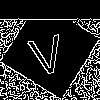V: (25, 25, 68, 77)
